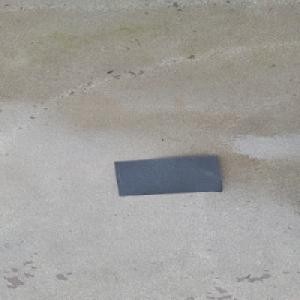PaintChip: (113, 154, 225, 196)
